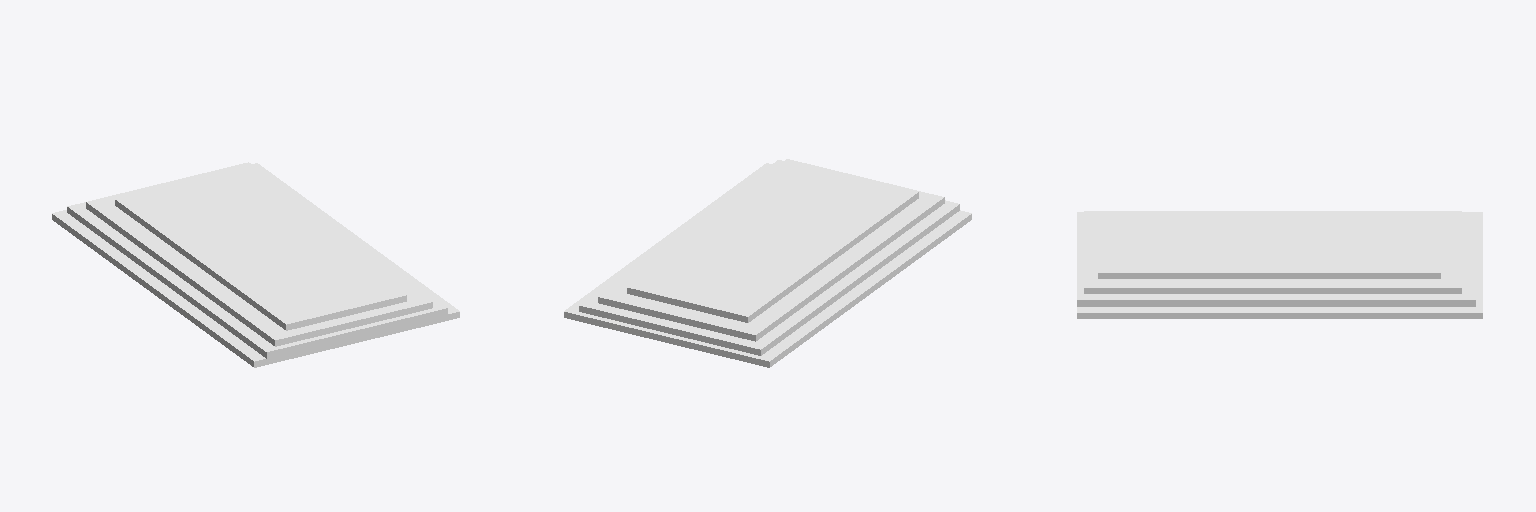
Rendered from tombstone.vox-0.obj.
3 views of the same model, side by side, from view 1: azimuth 30°, elevation 25°; view 2: azimuth 150°, elevation 25°; view 3: azimuth 270°, elevation 25° (orthographic).
Visible parts, largest first — view 1: object 1; view 2: object 1; view 3: object 1.
Boxes of the visible parts, box(x1,y1,x2,y2) form: object 1: box(52, 162, 459, 367); object 1: box(564, 159, 971, 367); object 1: box(1077, 211, 1482, 318).
Bounding box in the file's own units: 3.4 × 0.4 × 5.8.